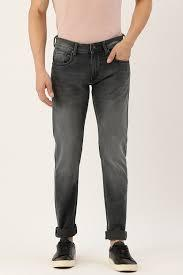jeans: (48, 34, 134, 241)
